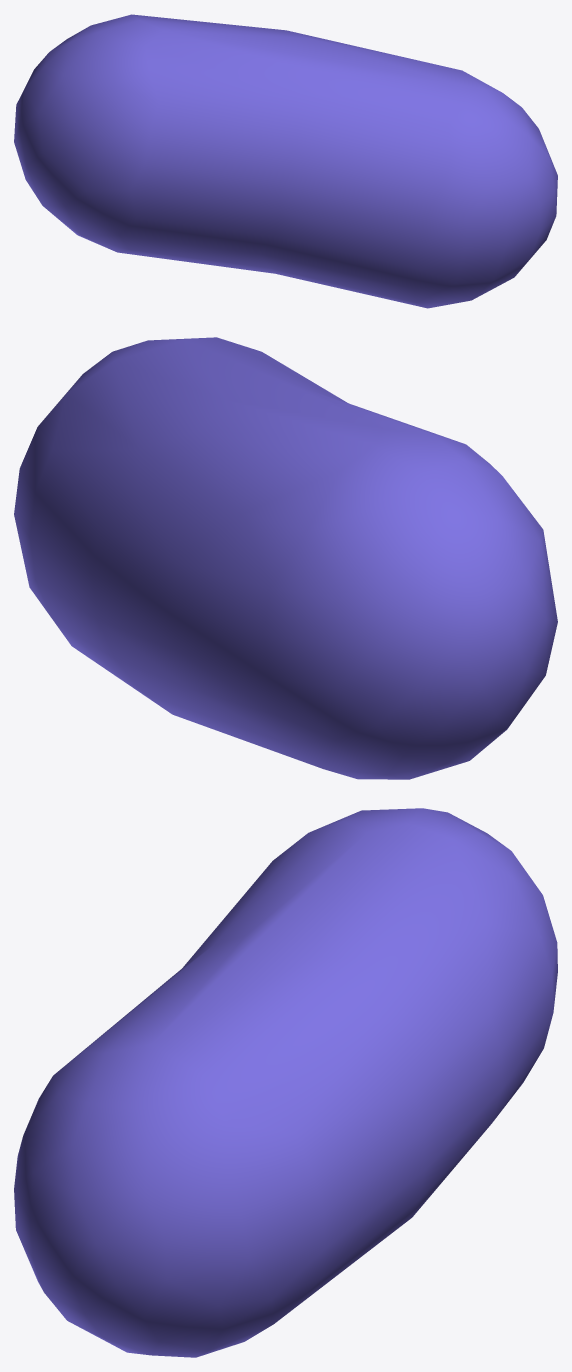
The model's file is Mitokondri3.fbx.
The picture shows the model from 3 angles, top to bottom: view 1: azimuth 30°, elevation 25°; view 2: azimuth 150°, elevation 25°; view 3: azimuth 270°, elevation 25°; orthographic projection. The views are drawn at different scales.
Parts seen in each view (by area): view 1: Sphere.2020; view 2: Sphere.2020; view 3: Sphere.2020.
Boxes of the visible parts, x1=… form: Sphere.2020: x1=14, y1=14, x2=557, y2=308; Sphere.2020: x1=14, y1=337, x2=557, y2=779; Sphere.2020: x1=14, y1=808, x2=557, y2=1357.
Bounding box in the file's own units: 72.17 × 43.31 × 57.22.
